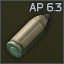9x19mm AP 6.3: (0, 0, 64, 64)
